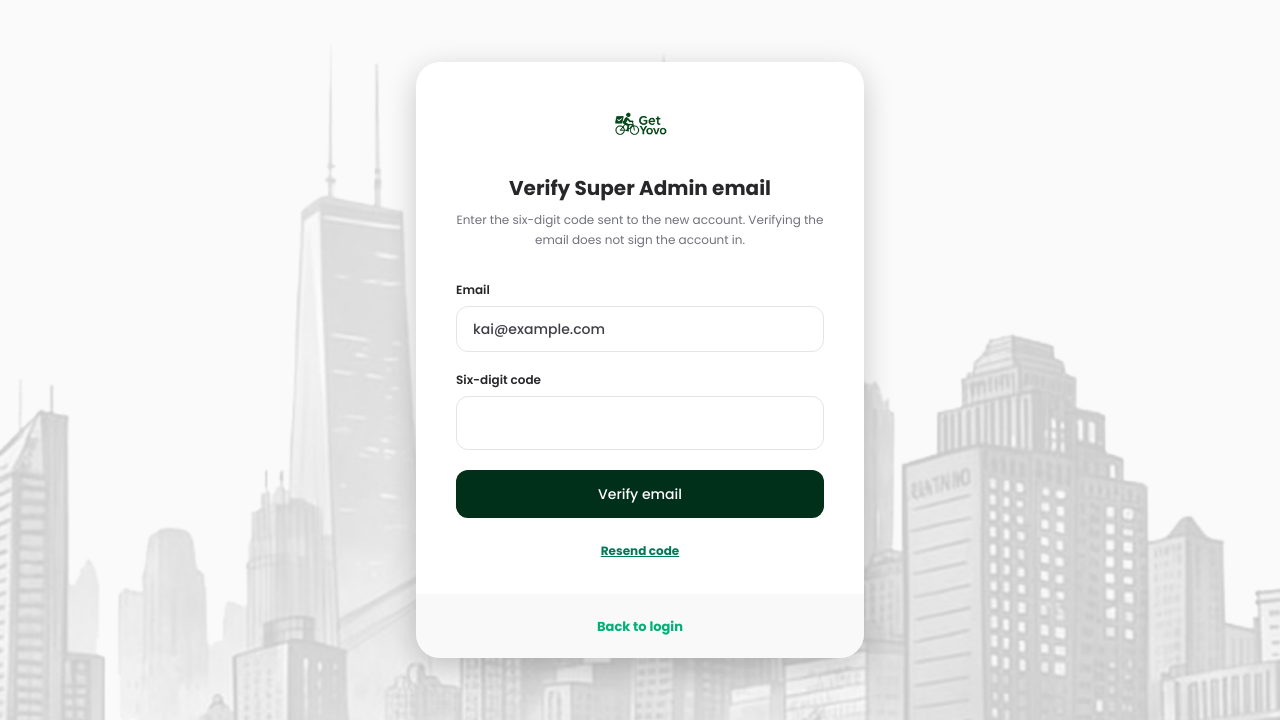
Test: Super Admin email verification › shows a resend wait from the server and allows another attempt
The image size is (1280, 720).
Click the button "Resend code" at (640, 551), box [456, 543, 824, 559]
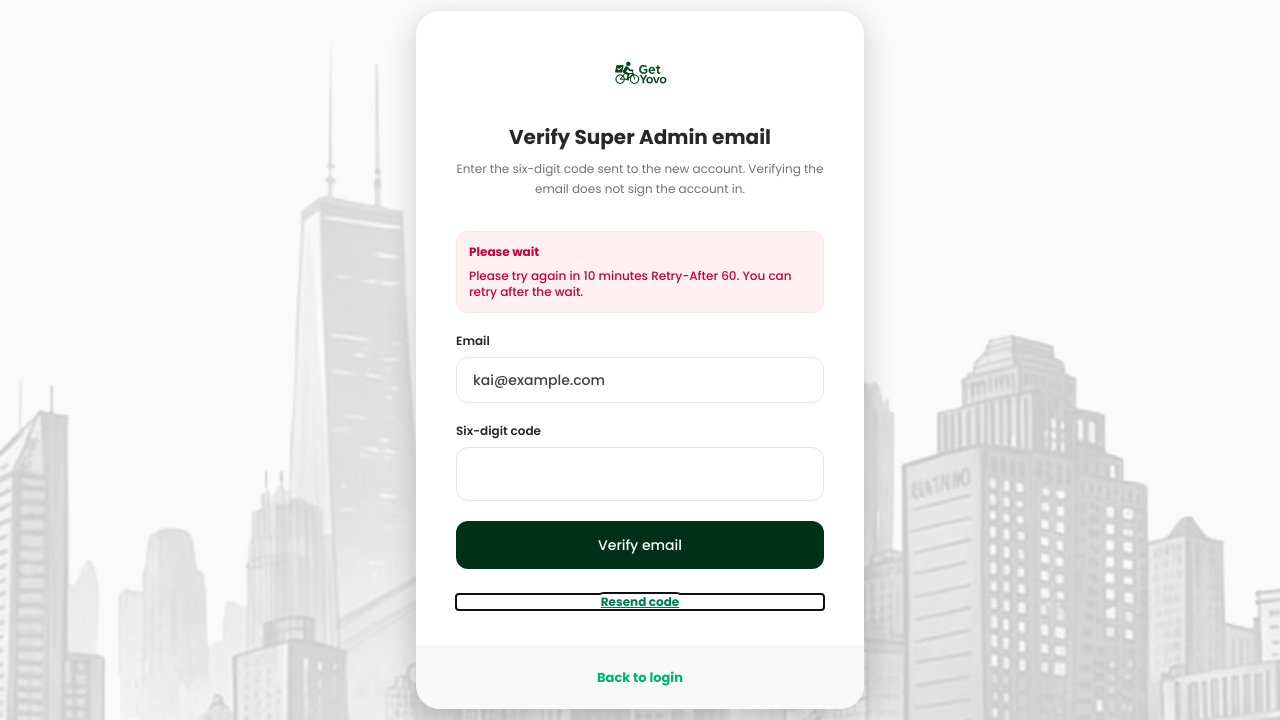
Now the message shows "Please wait", box [469, 243, 539, 260]
Now the message shows "Please try again in 10 minutes", box [469, 267, 792, 300]
Now the message shows "Retry-After 60", box [469, 267, 792, 300]
Click the button "Resend code" at (640, 602), box [456, 594, 824, 610]
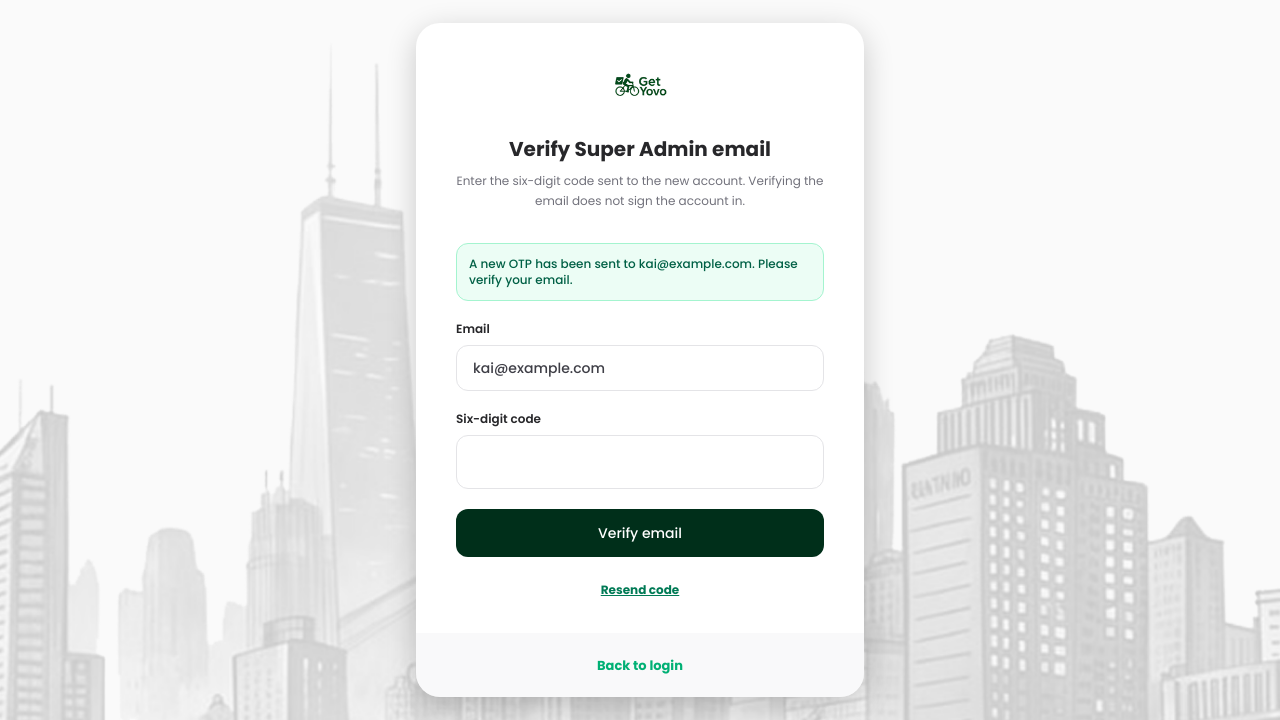
Now the message shows "A new OTP has been sent to kai@example.com", box [469, 255, 798, 288]
